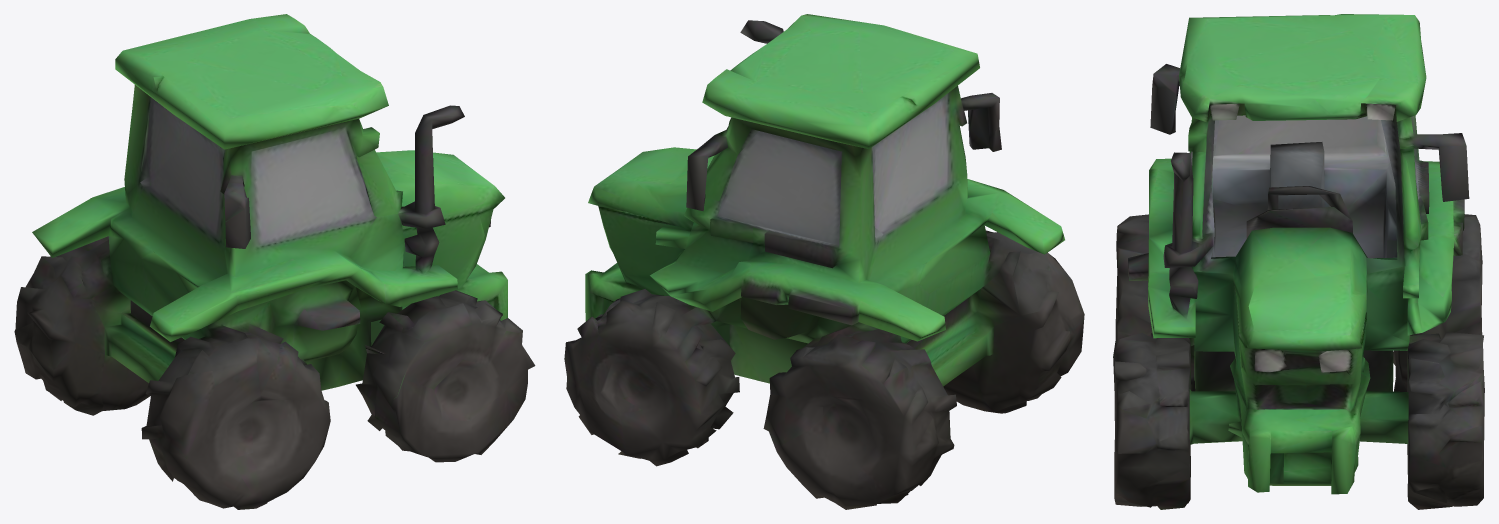
The model's file is tractor.glb.
3 renders of one model, left to right at view 1: azimuth 30°, elevation 25°; view 2: azimuth 150°, elevation 25°; view 3: azimuth 270°, elevation 25°, orthographic. The views are drawn at different scales.
Visible parts, largest first — view 1: tripo_node_c742134b-d89f-4b85-8058-45bf0a045b0f; view 2: tripo_node_c742134b-d89f-4b85-8058-45bf0a045b0f; view 3: tripo_node_c742134b-d89f-4b85-8058-45bf0a045b0f.
Part boxes in pixels (x1,y1,x2,y2): tripo_node_c742134b-d89f-4b85-8058-45bf0a045b0f: (14, 14, 535, 509); tripo_node_c742134b-d89f-4b85-8058-45bf0a045b0f: (564, 14, 1084, 509); tripo_node_c742134b-d89f-4b85-8058-45bf0a045b0f: (1113, 14, 1484, 509).
Size of the model in its own units: 1 by 0.875 by 0.7607.
1 material, 1 textured.
